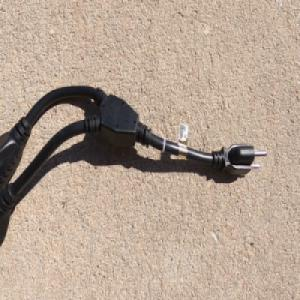Wire: (0, 84, 268, 243)
